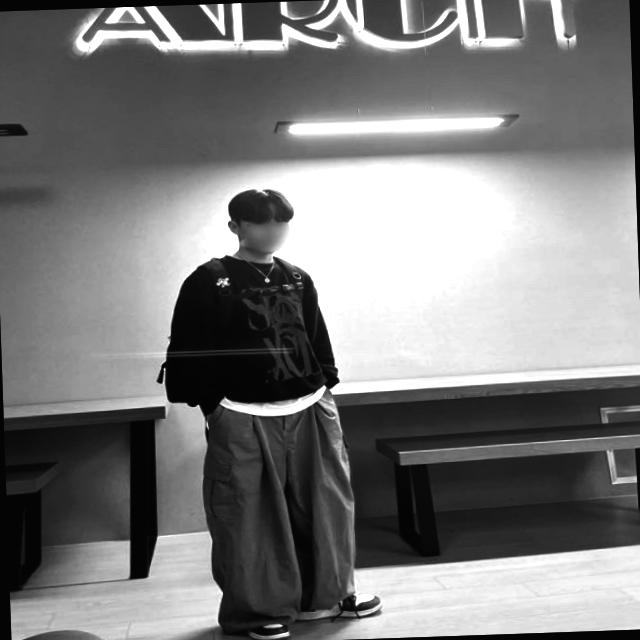cottonpants: (197, 392, 361, 638)
mtm: (166, 246, 344, 408)
